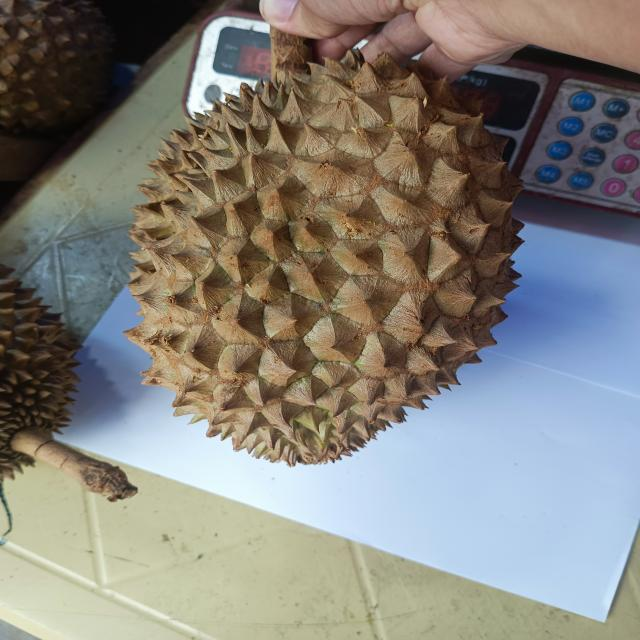mature: (127, 50, 521, 466)
